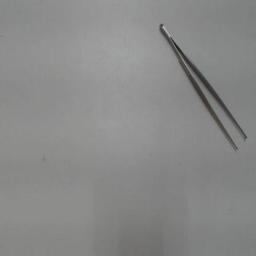Gillies Toothed Dissector: (157, 14, 251, 156)
